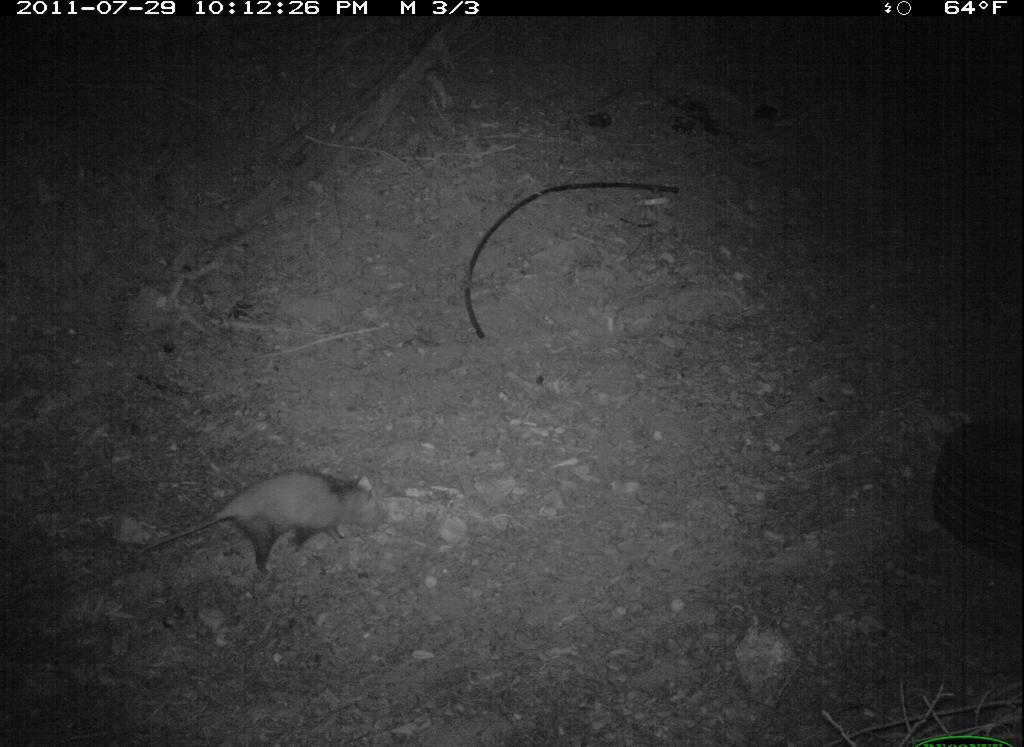opossum: (100, 454, 422, 597)
